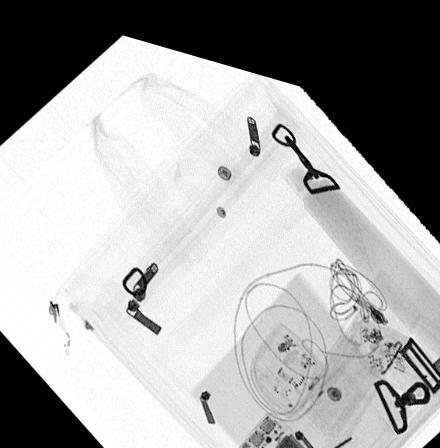Powerbank: (235, 394, 328, 448)
